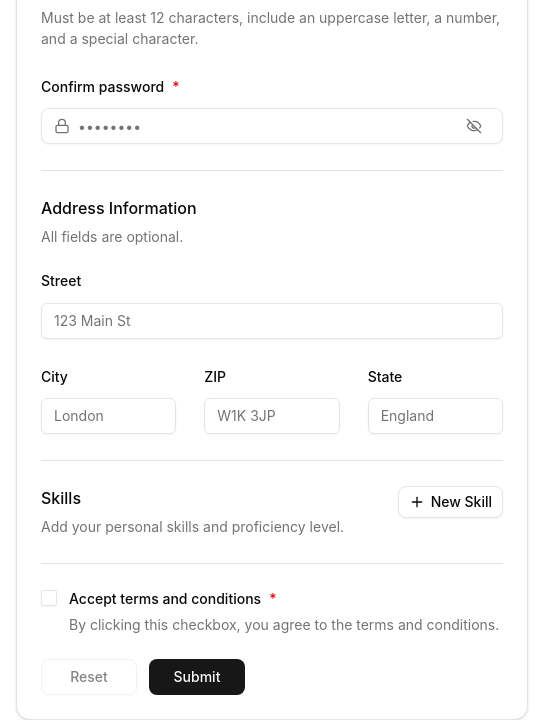
Test: RegisterForm › form validation › shows field errors and disables submit on empty submission
(page scrolled)
Click the button "Submit". click: (197, 677)
box: [149,659,245,695]
(page scrolled)
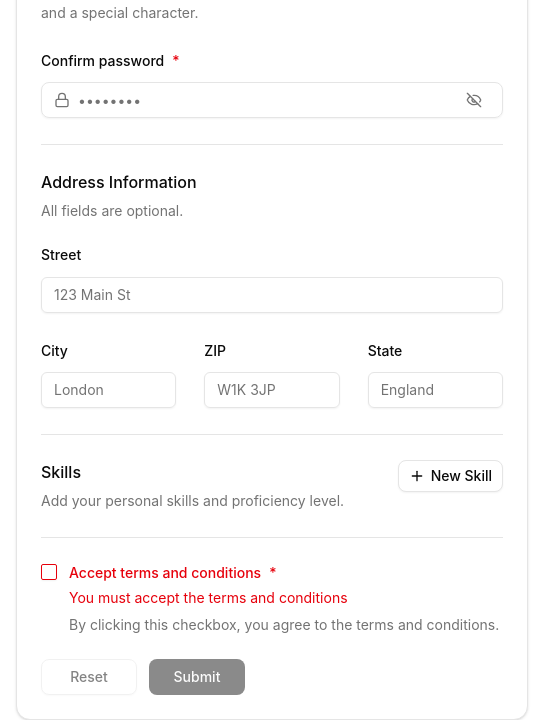
expect the text "You must accept the terms and conditions" is shown: met, box [69,589,348,606]
expect the button "Submit" is disabled: met, box [149,659,245,695]
